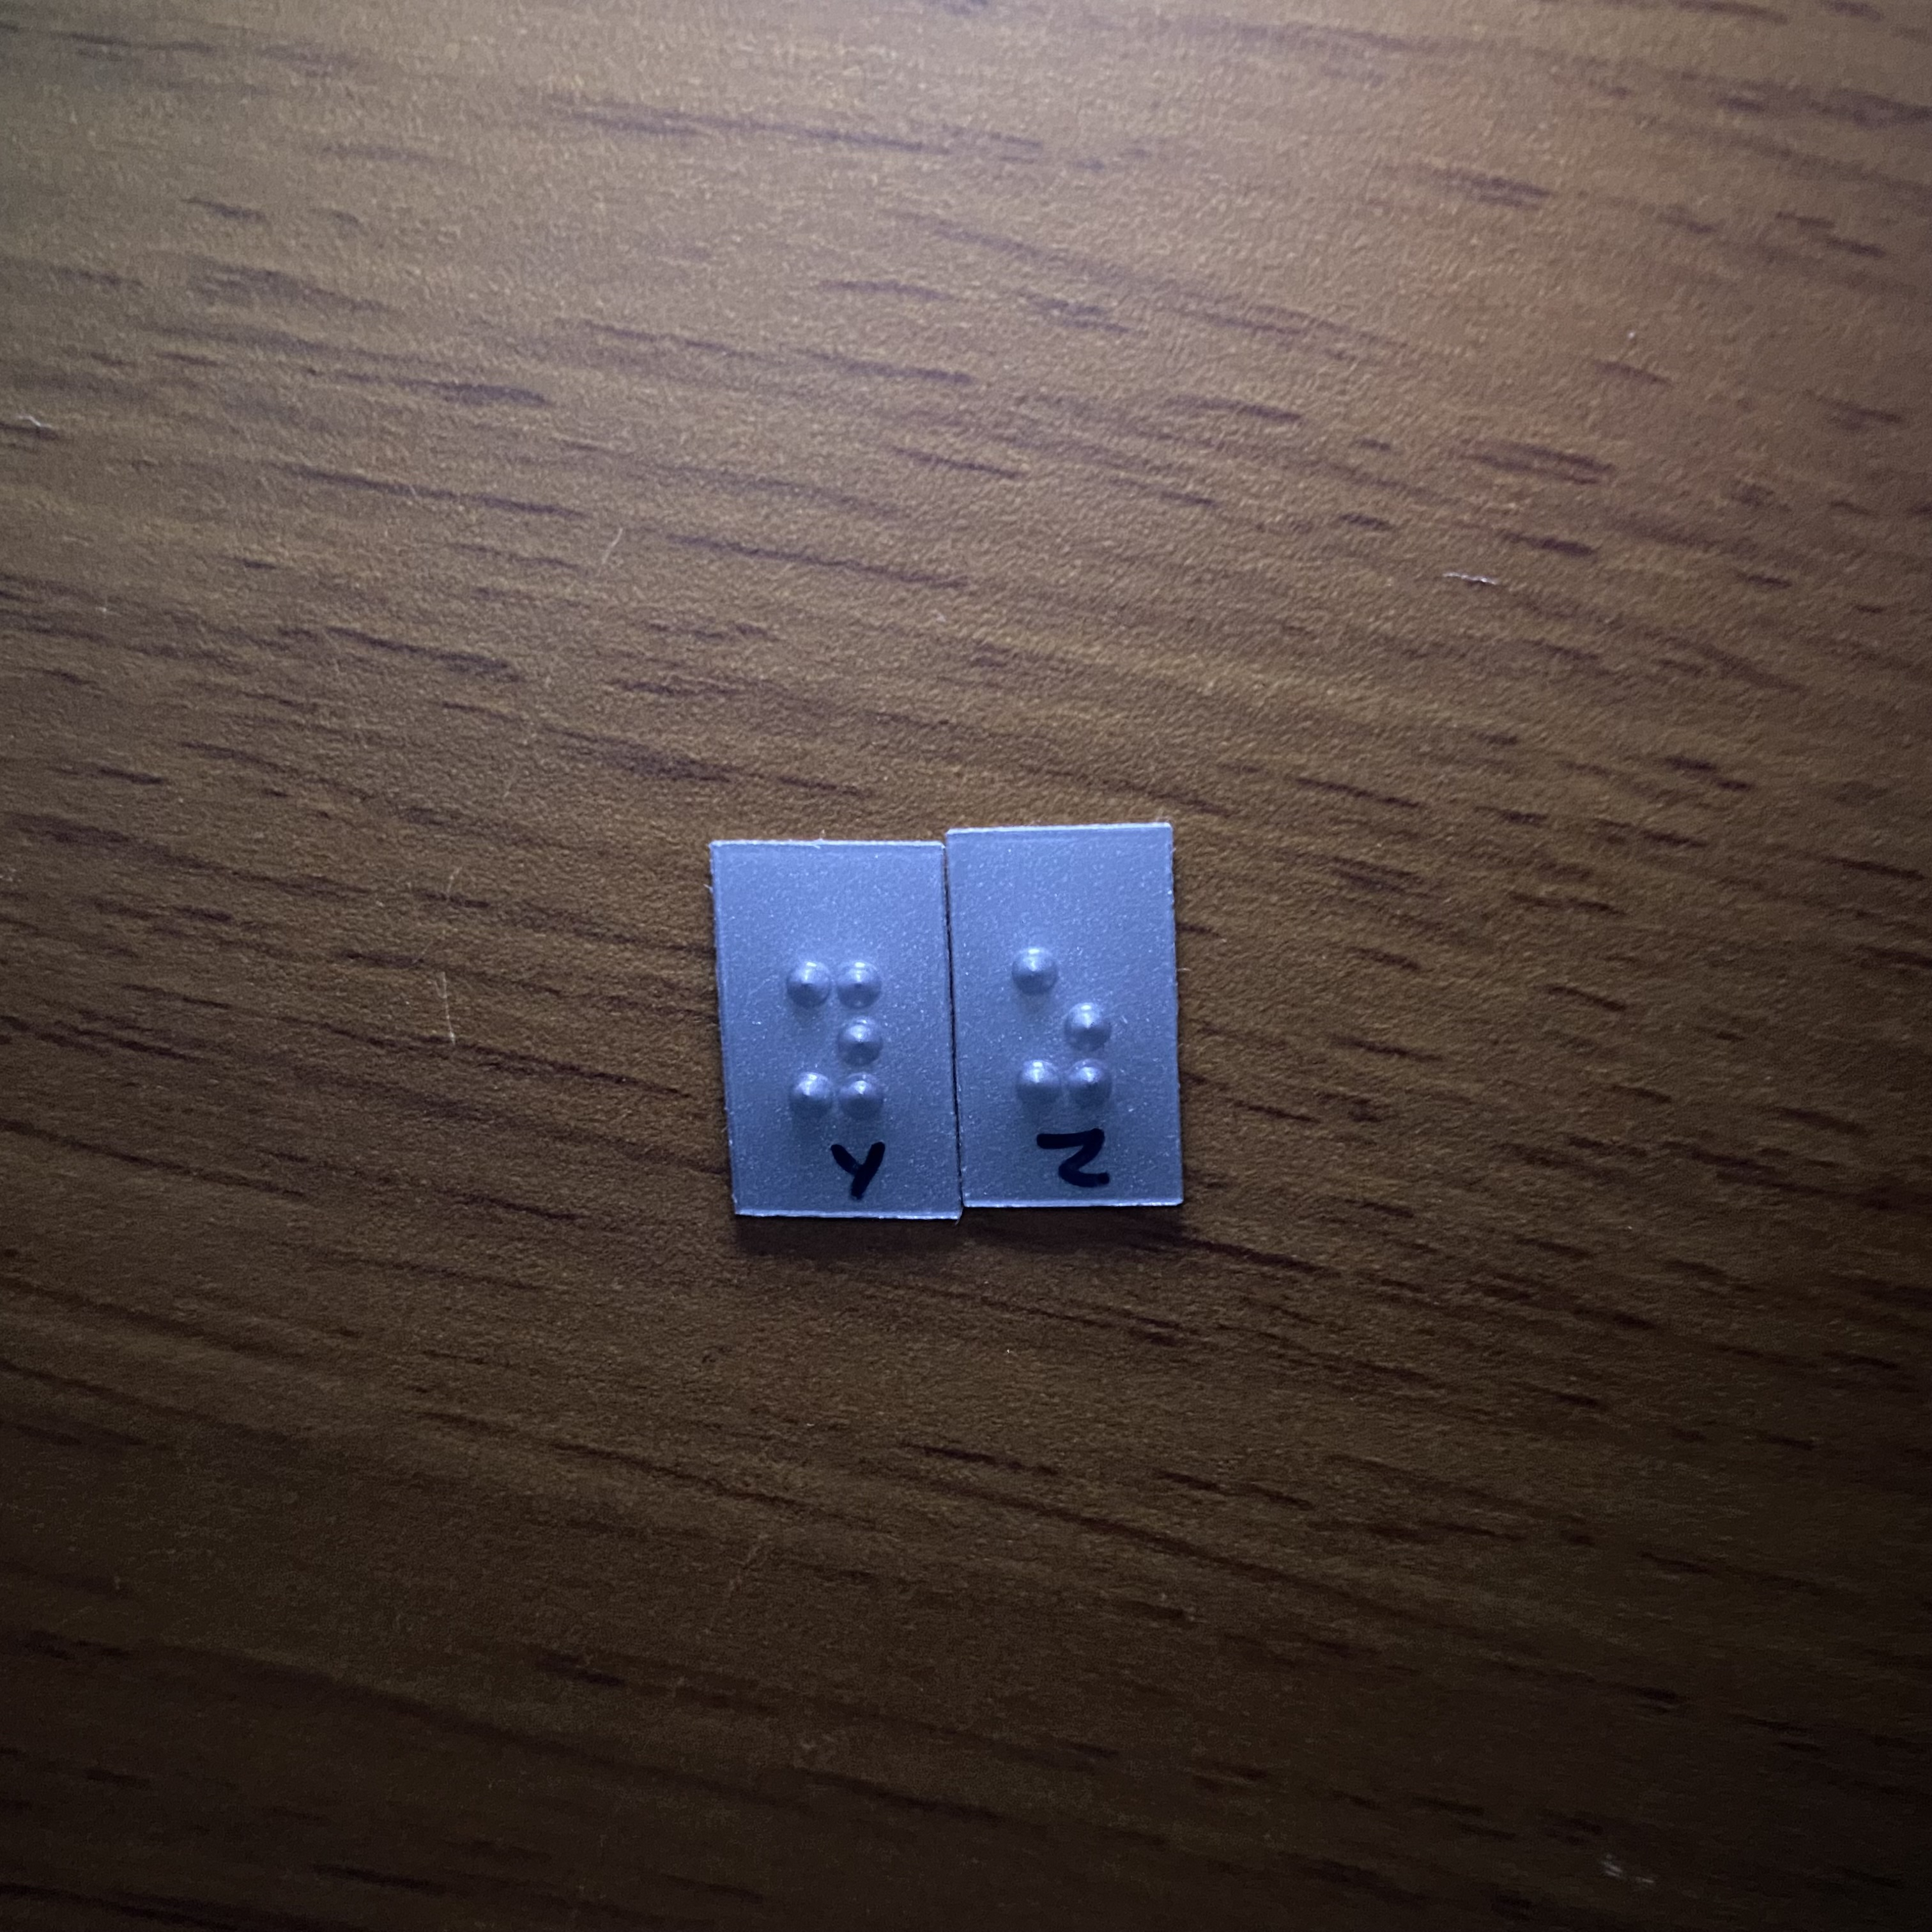y: (772, 949, 917, 1141)
z: (996, 925, 1131, 1112)
